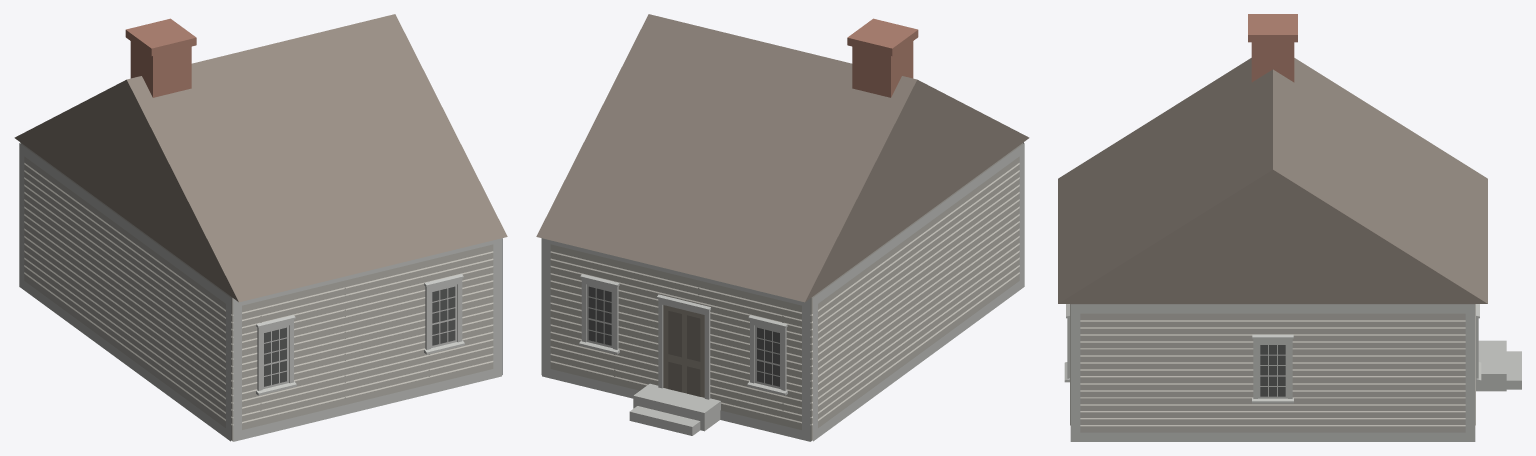
File: recon_1835_blk_indiana_north_cass_d4_06__inferred_1835.glb
3 views of the same model, side by side, from view 1: azimuth 30°, elevation 25°; view 2: azimuth 150°, elevation 25°; view 3: azimuth 270°, elevation 25° (orthographic). The views are drawn at different scales.
Parts seen in each view (by area): view 1: recon_1835_blk_indiana_north_cass_d4_06__inferred_1835; view 2: recon_1835_blk_indiana_north_cass_d4_06__inferred_1835; view 3: recon_1835_blk_indiana_north_cass_d4_06__inferred_1835.
Boxes of the visible parts, box(x1,y1,x2,y2) form: recon_1835_blk_indiana_north_cass_d4_06__inferred_1835: box(14, 14, 507, 441); recon_1835_blk_indiana_north_cass_d4_06__inferred_1835: box(536, 14, 1029, 441); recon_1835_blk_indiana_north_cass_d4_06__inferred_1835: box(1058, 14, 1521, 441).
Size of the model in its own units: 6 by 6.69 by 9.14.
